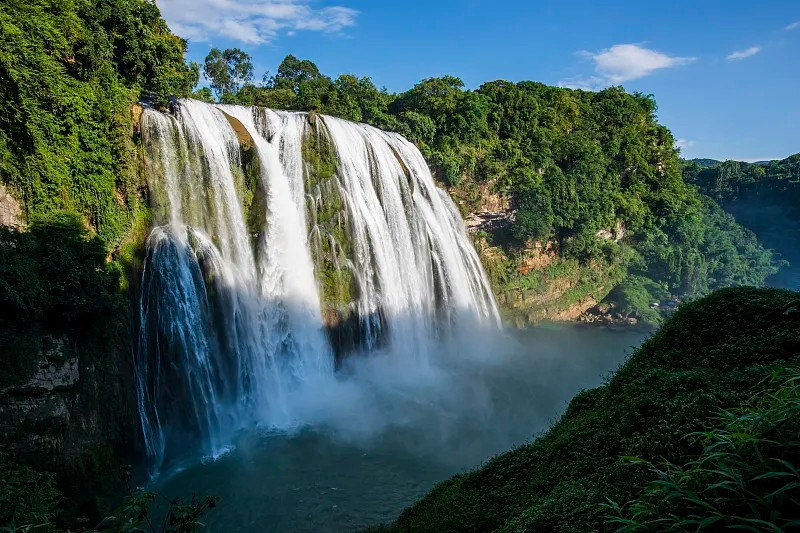Huangguoshu: (131, 99, 502, 452)
